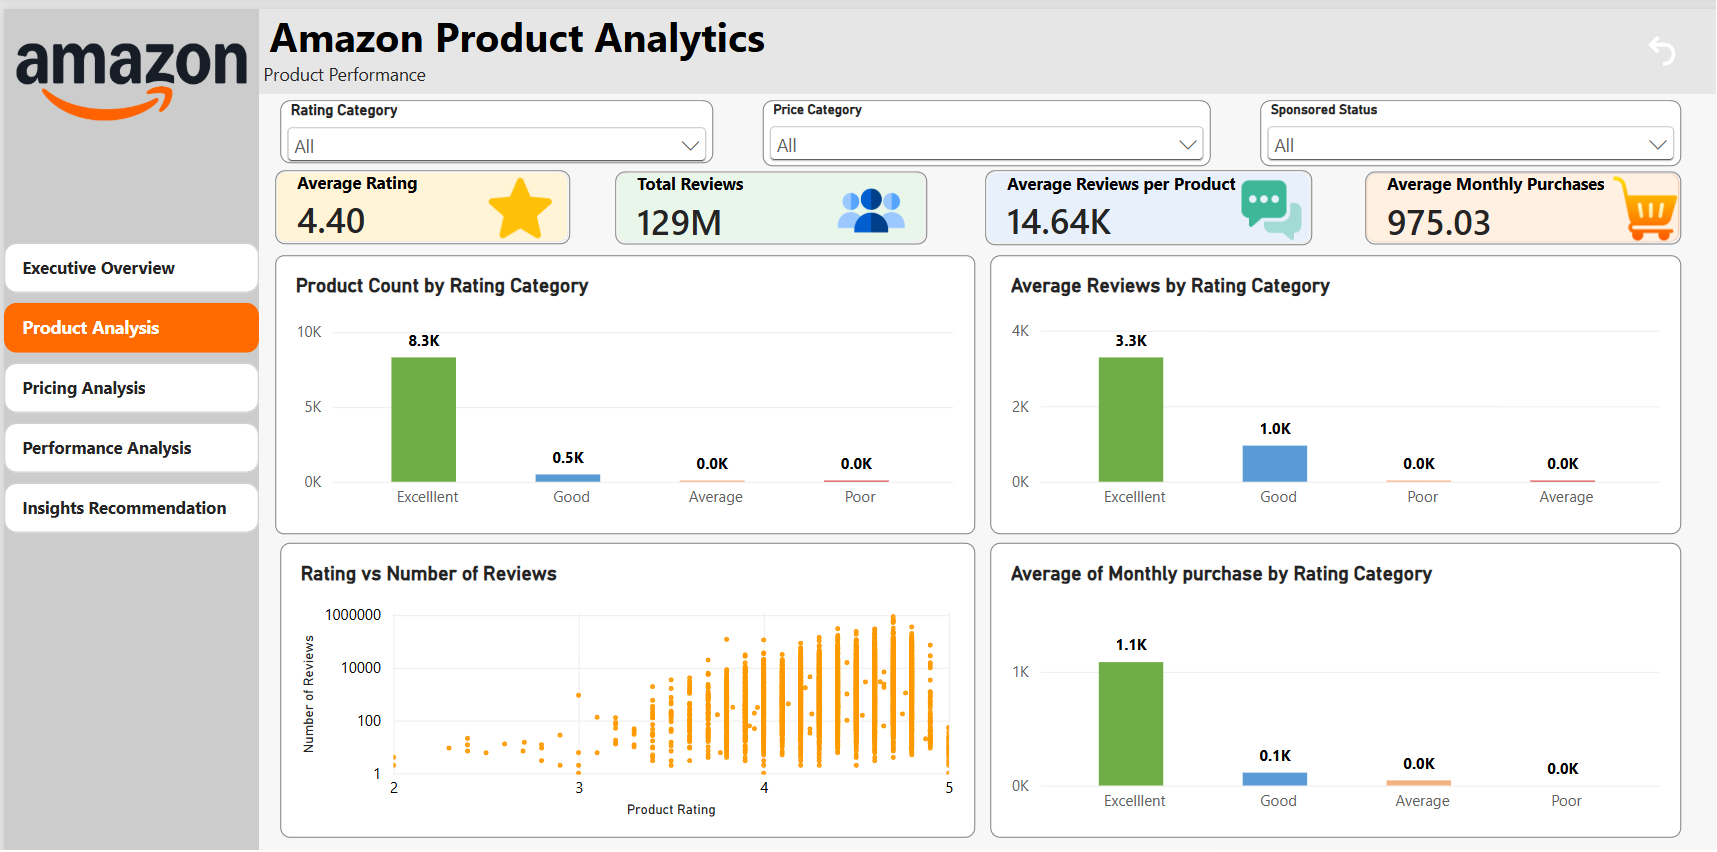

What the dashboard file says about the page in this screenshot:
{"tool":"powerbi","page":{"name":"Product Analysis","canvas":[1920,1080],"ordinal":1},"visuals":[{"type":"shape","box":[0,0,204,784],"z":0},{"type":"pageNavigator","box":[0,187,204,233],"z":1000},{"type":"image","box":[10,14,184,89],"z":2000},{"type":"shape","box":[204,0,1202,68],"z":3000},{"type":"textbox","box":[204,0,756,68],"z":4000},{"type":"cardVisual","fields":{"Data":["amazon_products_sales_data_uncl.Average Rating"]},"box":[217,129,236,59],"z":5000},{"type":"cardVisual","fields":{"Data":["amazon_products_sales_data_uncl.Total Reviews"]},"box":[489,130,250,58],"z":6000},{"type":"cardVisual","fields":{"Data":["amazon_products_sales_data_uncl.Average Reviews per Product"]},"box":[785,129,262,60],"z":7000},{"type":"cardVisual","fields":{"Data":["amazon_products_sales_data_uncl.Average Monthly Purchases"]},"box":[1089,130,253,58],"z":8000},{"type":"slicer","fields":{"Values":["amazon_products_sales_data_uncl.Rating Category"]},"box":[221,73,347,50],"z":9000},{"type":"slicer","fields":{"Values":["amazon_products_sales_data_uncl.Price Category"]},"box":[607,73,359,53],"z":10000},{"type":"slicer","fields":{"Values":["amazon_products_sales_data_uncl.is_sponsored"]},"box":[1005,73,337,53],"z":11000},{"type":"clusteredColumnChart","title":"Product Count by Rating Category","fields":{"Category":["amazon_products_sales_data_uncl.Rating Category"],"Y":["amazon_products_sales_data_uncl.Total Products"]},"box":[217,197,560,223],"z":12000},{"type":"clusteredColumnChart","title":"Average Reviews by Rating Category","fields":{"Category":["amazon_products_sales_data_uncl.Rating Category"],"Y":["Avg(amazon_products_sales_data_uncl.number_of_reviews)"]},"box":[789,197,553,223],"z":13000},{"type":"clusteredColumnChart","fields":{"Category":["amazon_products_sales_data_uncl.Rating Category"],"Y":["Avg(amazon_products_sales_data_uncl.Monthly purchase)"]},"box":[789,427,553,236],"z":14000},{"type":"scatterChart","title":"Rating vs Number of Reviews","fields":{"X":["Avg(amazon_products_sales_data_uncl.rating)"],"Y":["Avg(amazon_products_sales_data_uncl.number_of_reviews)"],"Category":["amazon_products_sales_data_uncl.title"]},"box":[221,427,556,236],"z":15000},{"type":"image","box":[387,134,53,50],"z":16000},{"type":"image","box":[659,134,70,54],"z":17000},{"type":"image","box":[982,137,65,48],"z":18000},{"type":"image","box":[1285,134,57,51],"z":19000},{"type":"actionButton","box":[1302,0,65,68],"z":19001}]}

Visuals, with their boxes on the page's 1920x1080 design canvas (x1, y1, x2, y2). These are canvas units, not pixel positions in the 1717x852 screenshot, which may show the page scaled, cropped or inside an application window:
shape: box=[0, 0, 204, 784]
pageNavigator: box=[0, 187, 204, 420]
image: box=[10, 14, 194, 103]
shape: box=[204, 0, 1406, 68]
textbox: box=[204, 0, 960, 68]
cardVisual - amazon_products_sales_data_uncl.Average Rating: box=[217, 129, 453, 188]
cardVisual - amazon_products_sales_data_uncl.Total Reviews: box=[489, 130, 739, 188]
cardVisual - amazon_products_sales_data_uncl.Average Reviews per Product: box=[785, 129, 1047, 189]
cardVisual - amazon_products_sales_data_uncl.Average Monthly Purchases: box=[1089, 130, 1342, 188]
slicer - amazon_products_sales_data_uncl.Rating Category: box=[221, 73, 568, 123]
slicer - amazon_products_sales_data_uncl.Price Category: box=[607, 73, 966, 126]
slicer - amazon_products_sales_data_uncl.is_sponsored: box=[1005, 73, 1342, 126]
"Product Count by Rating Category" clusteredColumnChart: box=[217, 197, 777, 420]
"Average Reviews by Rating Category" clusteredColumnChart: box=[789, 197, 1342, 420]
clusteredColumnChart - amazon_products_sales_data_uncl.Rating Category x Avg(amazon_products_sales_data_uncl.Monthly purchase): box=[789, 427, 1342, 663]
"Rating vs Number of Reviews" scatterChart: box=[221, 427, 777, 663]
image: box=[387, 134, 440, 184]
image: box=[659, 134, 729, 188]
image: box=[982, 137, 1047, 185]
image: box=[1285, 134, 1342, 185]
actionButton: box=[1302, 0, 1367, 68]
